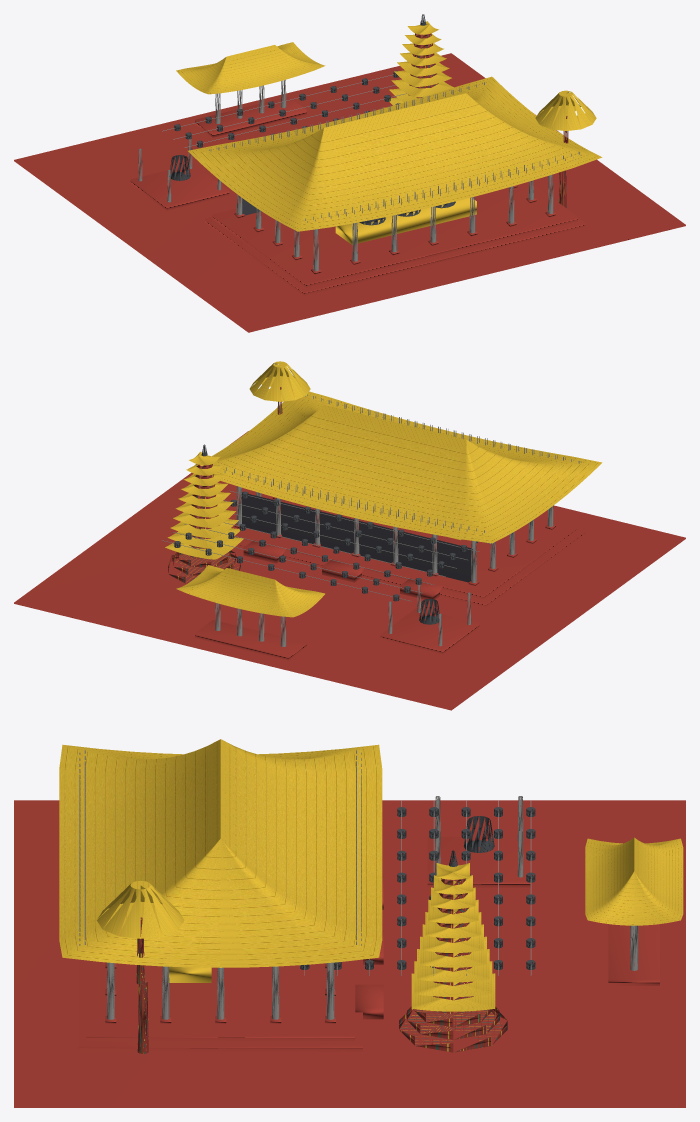
3 renders of one model, top to bottom at view 1: azimuth 30°, elevation 25°; view 2: azimuth 150°, elevation 25°; view 3: azimuth 270°, elevation 25°, orthographic. The views are drawn at different scales.
Parts seen in each view (by area): view 1: jogyesa_temple_ground, daeungjeon_paljak_roof, daeungjeon_granite_podium, jogyesa_iljumun_gate, jogyesa_10story_relic_pagoda, daeungjeon_dancheong_timber, daeungjeon_triad_buddha_altar, jogyesa_natural_monument_white_pine, jogyesa_lotus_lanterns_canopy; view 2: jogyesa_temple_ground, daeungjeon_paljak_roof, daeungjeon_granite_podium, daeungjeon_dancheong_timber, jogyesa_iljumun_gate, jogyesa_10story_relic_pagoda, jogyesa_lotus_lanterns_canopy, jogyesa_natural_monument_white_pine; view 3: jogyesa_temple_ground, daeungjeon_paljak_roof, daeungjeon_granite_podium, jogyesa_10story_relic_pagoda, jogyesa_iljumun_gate, jogyesa_natural_monument_white_pine, jogyesa_lotus_lanterns_canopy, daeungjeon_dancheong_timber, daeungjeon_triad_buddha_altar.
Part boxes in pixels (box(x1,y1,x2,y2)): jogyesa_temple_ground: box(14, 53, 685, 332); daeungjeon_paljak_roof: box(188, 76, 602, 231); daeungjeon_granite_podium: box(205, 181, 585, 295); jogyesa_iljumun_gate: box(176, 42, 325, 137); jogyesa_10story_relic_pagoda: box(383, 14, 453, 107); daeungjeon_dancheong_timber: box(234, 174, 555, 274); daeungjeon_triad_buddha_altar: box(335, 198, 476, 244); jogyesa_natural_monument_white_pine: box(535, 90, 596, 207); jogyesa_lotus_lanterns_canopy: box(162, 70, 406, 147); jogyesa_temple_ground: box(14, 431, 685, 710); daeungjeon_paljak_roof: box(188, 391, 602, 543); daeungjeon_granite_podium: box(228, 493, 585, 607); daeungjeon_dancheong_timber: box(234, 486, 555, 585); jogyesa_iljumun_gate: box(176, 565, 324, 660); jogyesa_10story_relic_pagoda: box(165, 444, 243, 583); jogyesa_lotus_lanterns_canopy: box(162, 490, 490, 601); jogyesa_natural_monument_white_pine: box(249, 361, 310, 414); jogyesa_temple_ground: box(14, 796, 685, 1107); daeungjeon_paljak_roof: box(59, 739, 382, 967); daeungjeon_granite_podium: box(78, 875, 383, 1051); jogyesa_10story_relic_pagoda: box(399, 850, 507, 1052); jogyesa_iljumun_gate: box(585, 837, 683, 985); jogyesa_natural_monument_white_pine: box(97, 880, 184, 1053); jogyesa_lotus_lanterns_canopy: box(300, 800, 535, 975); daeungjeon_dancheong_timber: box(105, 962, 335, 1023); daeungjeon_triad_buddha_altar: box(169, 966, 211, 982).
Size of the model in its own units: 56 by 15.4 by 52.
5 materials, 5 textured.
